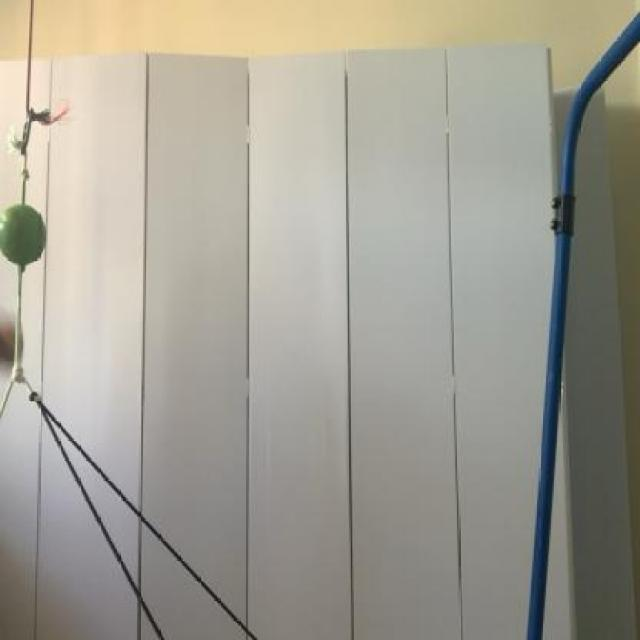baseball: (0, 202, 51, 269)
